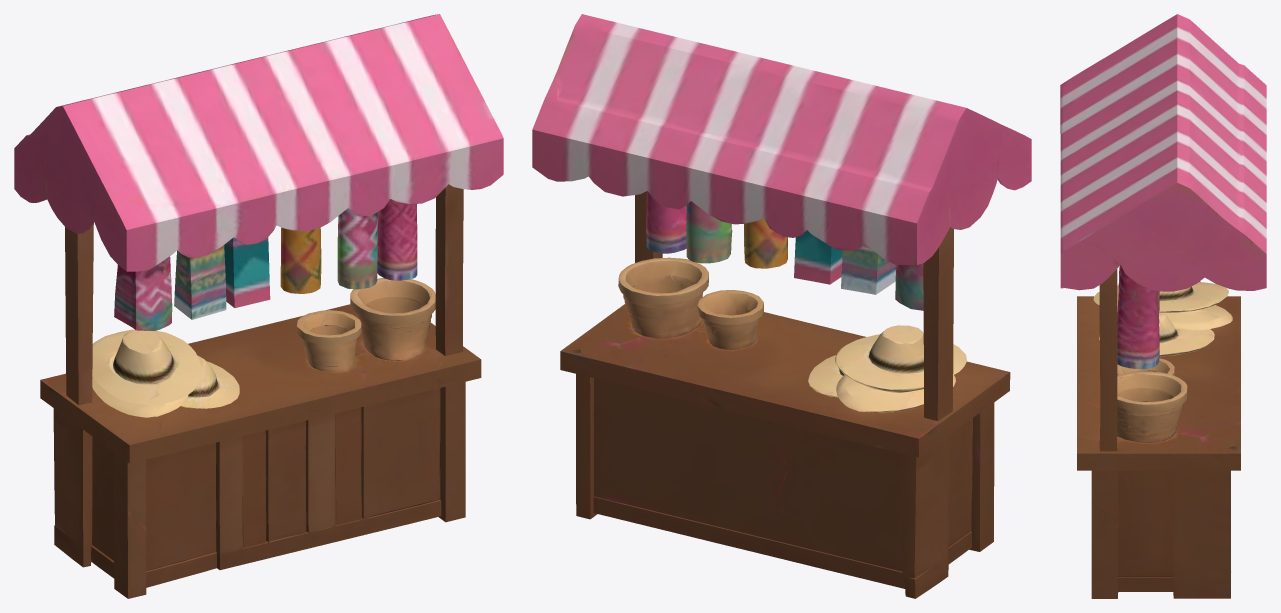
File: stall_cloth.glb
3 views of the same model, side by side, from view 1: azimuth 30°, elevation 25°; view 2: azimuth 150°, elevation 25°; view 3: azimuth 270°, elevation 25° (orthographic). The views are drawn at different scales.
Visible parts, largest first — view 1: model; view 2: model; view 3: model.
Boxes of the visible parts, bbox=[...] form: model: bbox=[14, 14, 503, 598]; model: bbox=[532, 14, 1031, 598]; model: bbox=[1060, 14, 1266, 598].
Bounding box in the file's own units: 1.61 × 1.9 × 0.83.
Materials: 1 (1 with a texture image).
